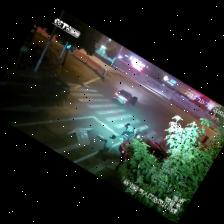person: (94, 135, 115, 158), (116, 123, 134, 142)
